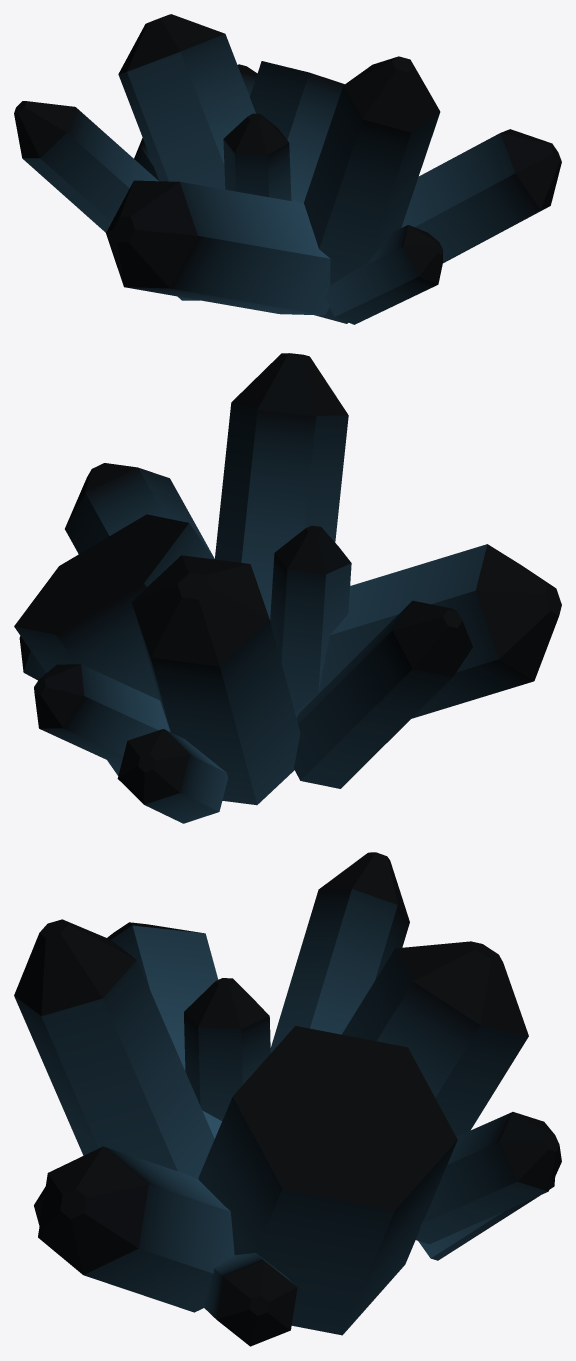
File: CrystalCluster_Medium1.fbx
3 renders of one model, top to bottom at view 1: azimuth 30°, elevation 25°; view 2: azimuth 150°, elevation 25°; view 3: azimuth 270°, elevation 25°, orthographic. The views are drawn at different scales.
Parts seen in each view (by area): view 1: CrystalCluster_Medium1; view 2: CrystalCluster_Medium1; view 3: CrystalCluster_Medium1.
Boxes of the visible parts, x1=… form: CrystalCluster_Medium1: x1=14, y1=14, x2=561, y2=324; CrystalCluster_Medium1: x1=14, y1=353, x2=561, y2=823; CrystalCluster_Medium1: x1=14, y1=852, x2=561, y2=1346.
Size of the model in its own units: 193 by 128 by 163.
